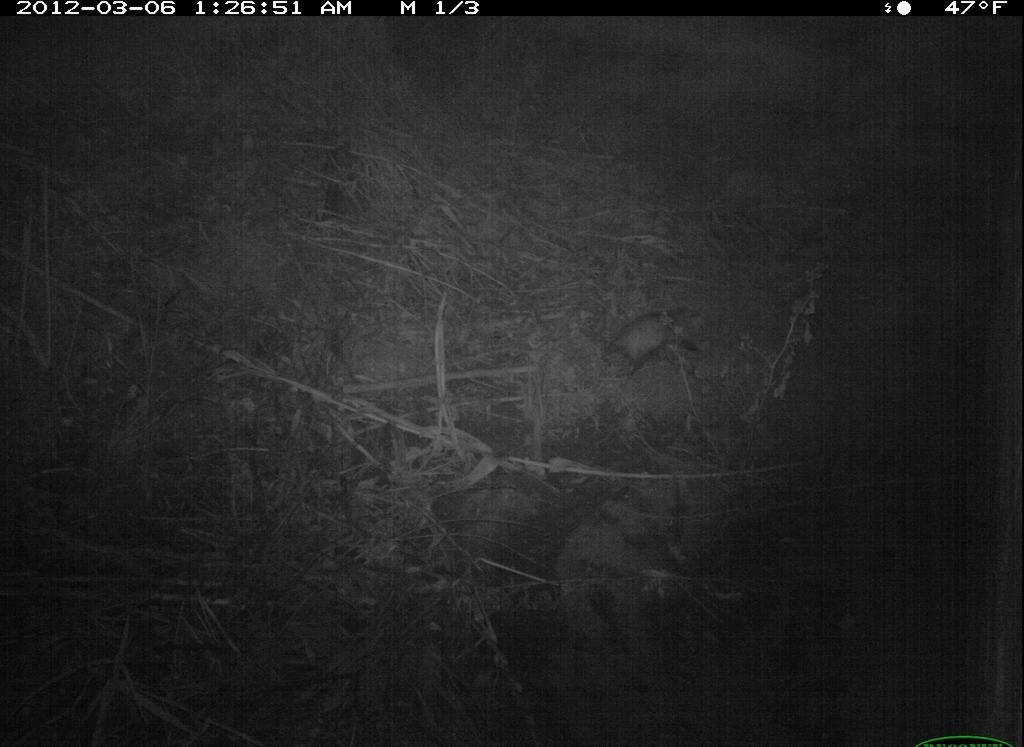opossum: (602, 291, 705, 372)
